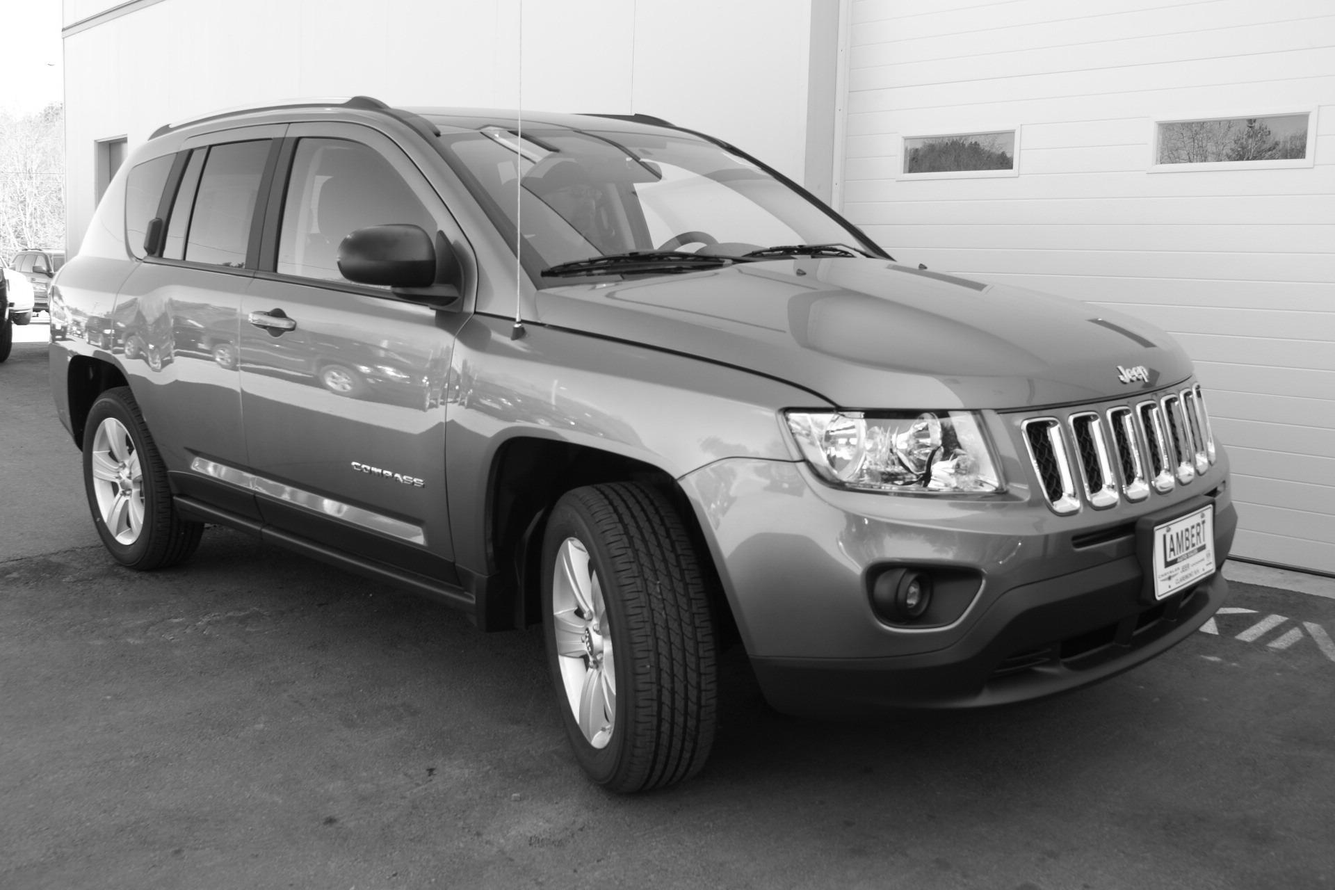car: (45, 92, 1245, 800)
